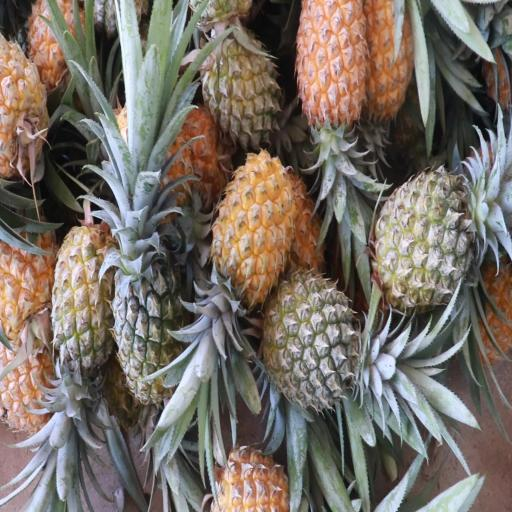------------------------------: (52, 226, 116, 398)
Pineapple - v8 v1: (294, 0, 364, 234), (216, 155, 287, 384), (0, 219, 63, 343), (366, 0, 415, 147), (0, 45, 47, 179), (0, 347, 66, 433), (28, 0, 88, 94)
